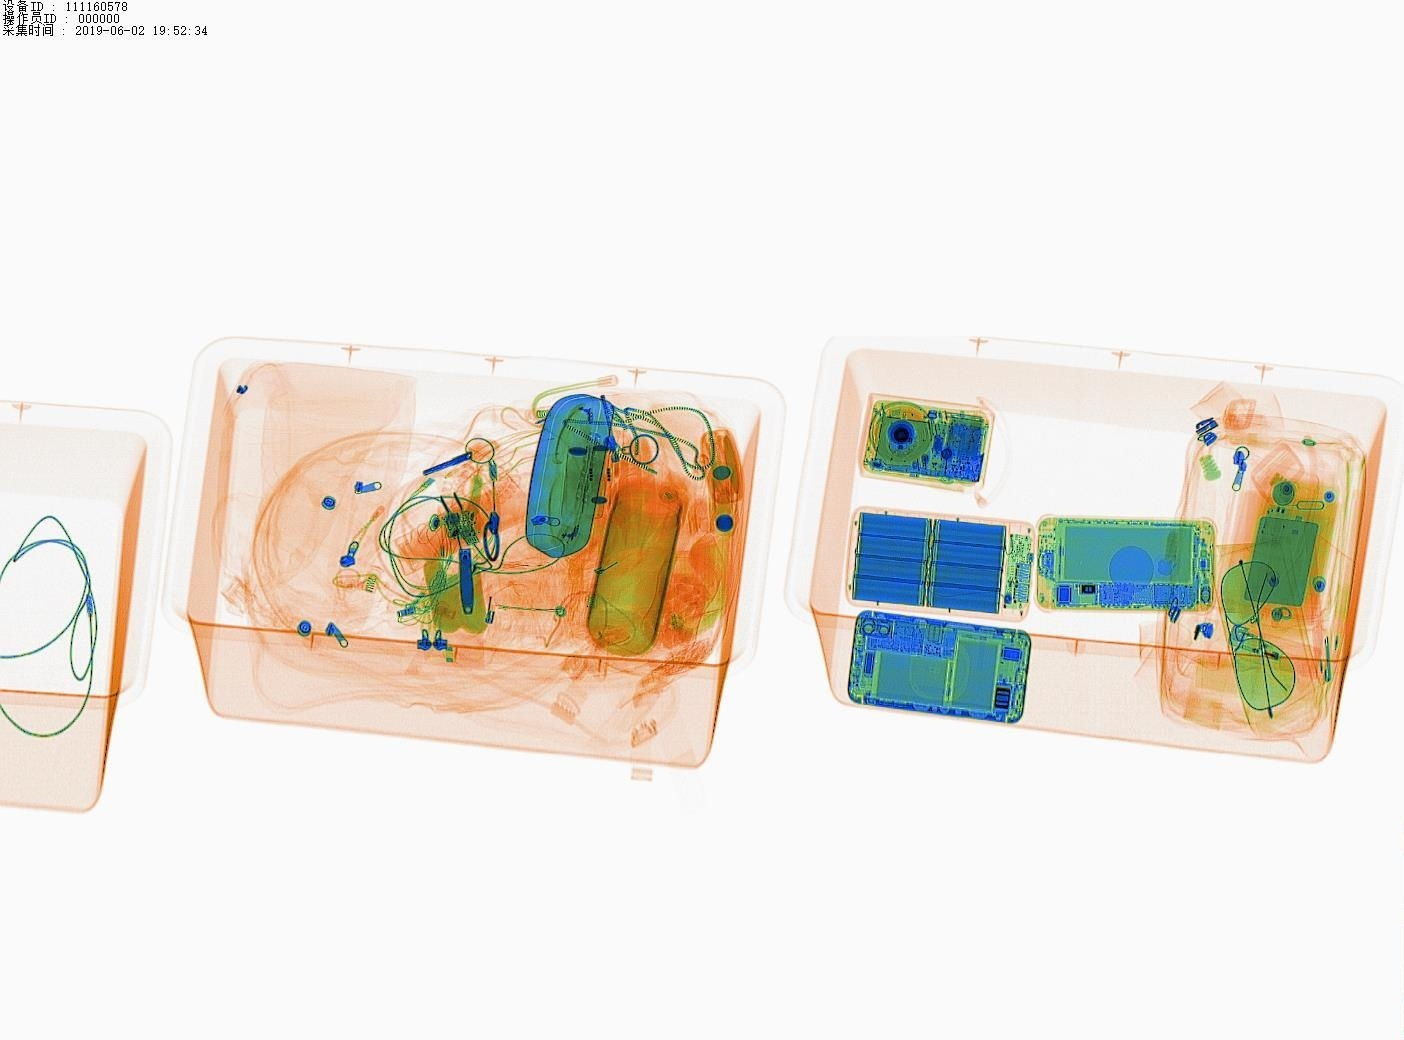NonmetallicFire: (1222, 613, 1343, 693)
